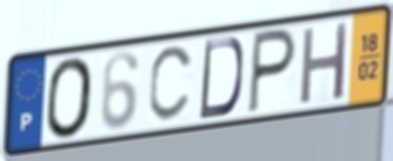6: (98, 48, 141, 134)
C: (146, 42, 197, 126)
D: (196, 35, 245, 122)
H: (297, 18, 351, 108)
O: (45, 54, 96, 142)
P: (245, 26, 299, 117)
